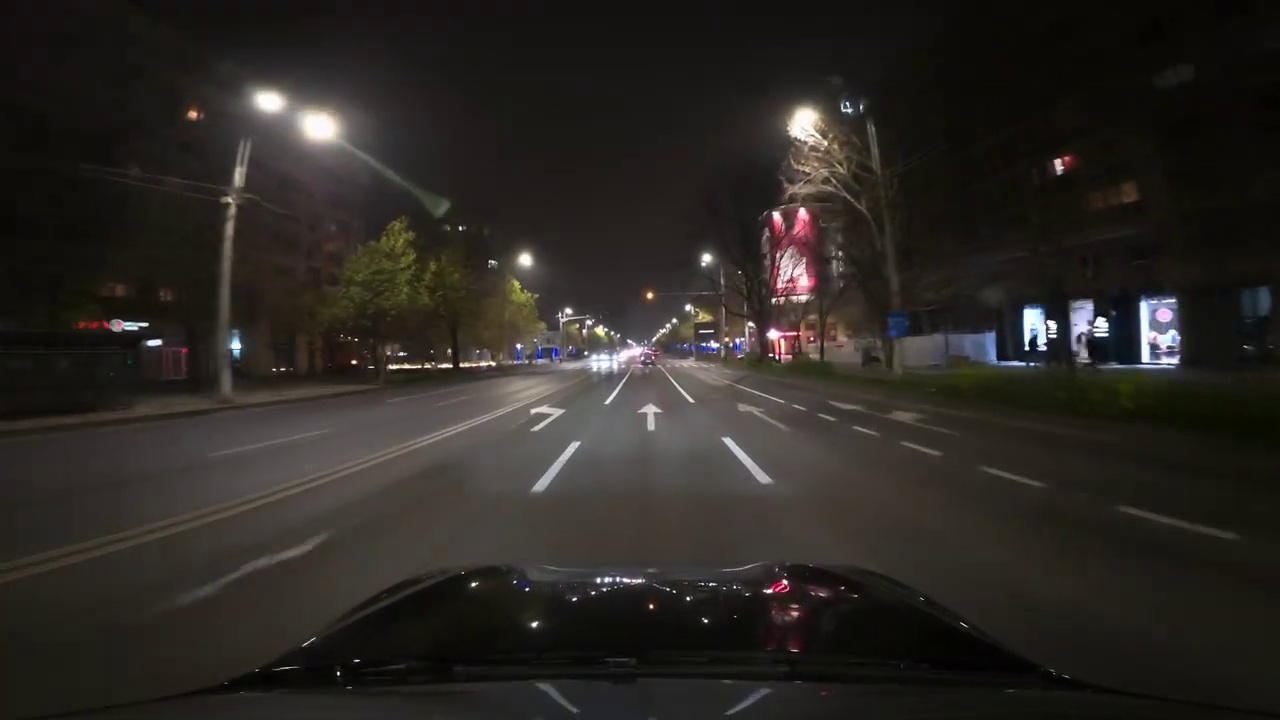acesa: (301, 110, 340, 143), (788, 107, 822, 140), (253, 88, 286, 116), (514, 248, 537, 272), (696, 250, 718, 270), (642, 286, 659, 304)
